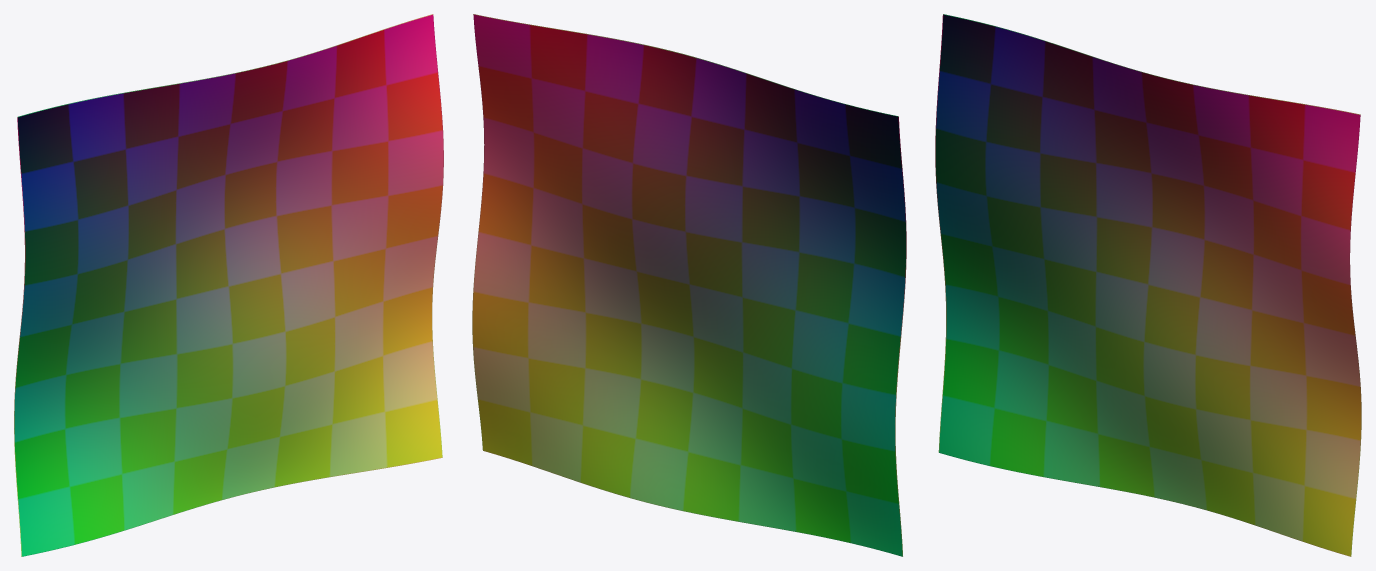
File: Tile_+006_+001.obj
3 views of the same model, side by side, from view 1: azimuth 30°, elevation 25°; view 2: azimuth 150°, elevation 25°; view 3: azimuth 330°, elevation 25° (orthographic).
Size of the model in its own units: 100 by 100 by 6.07.
